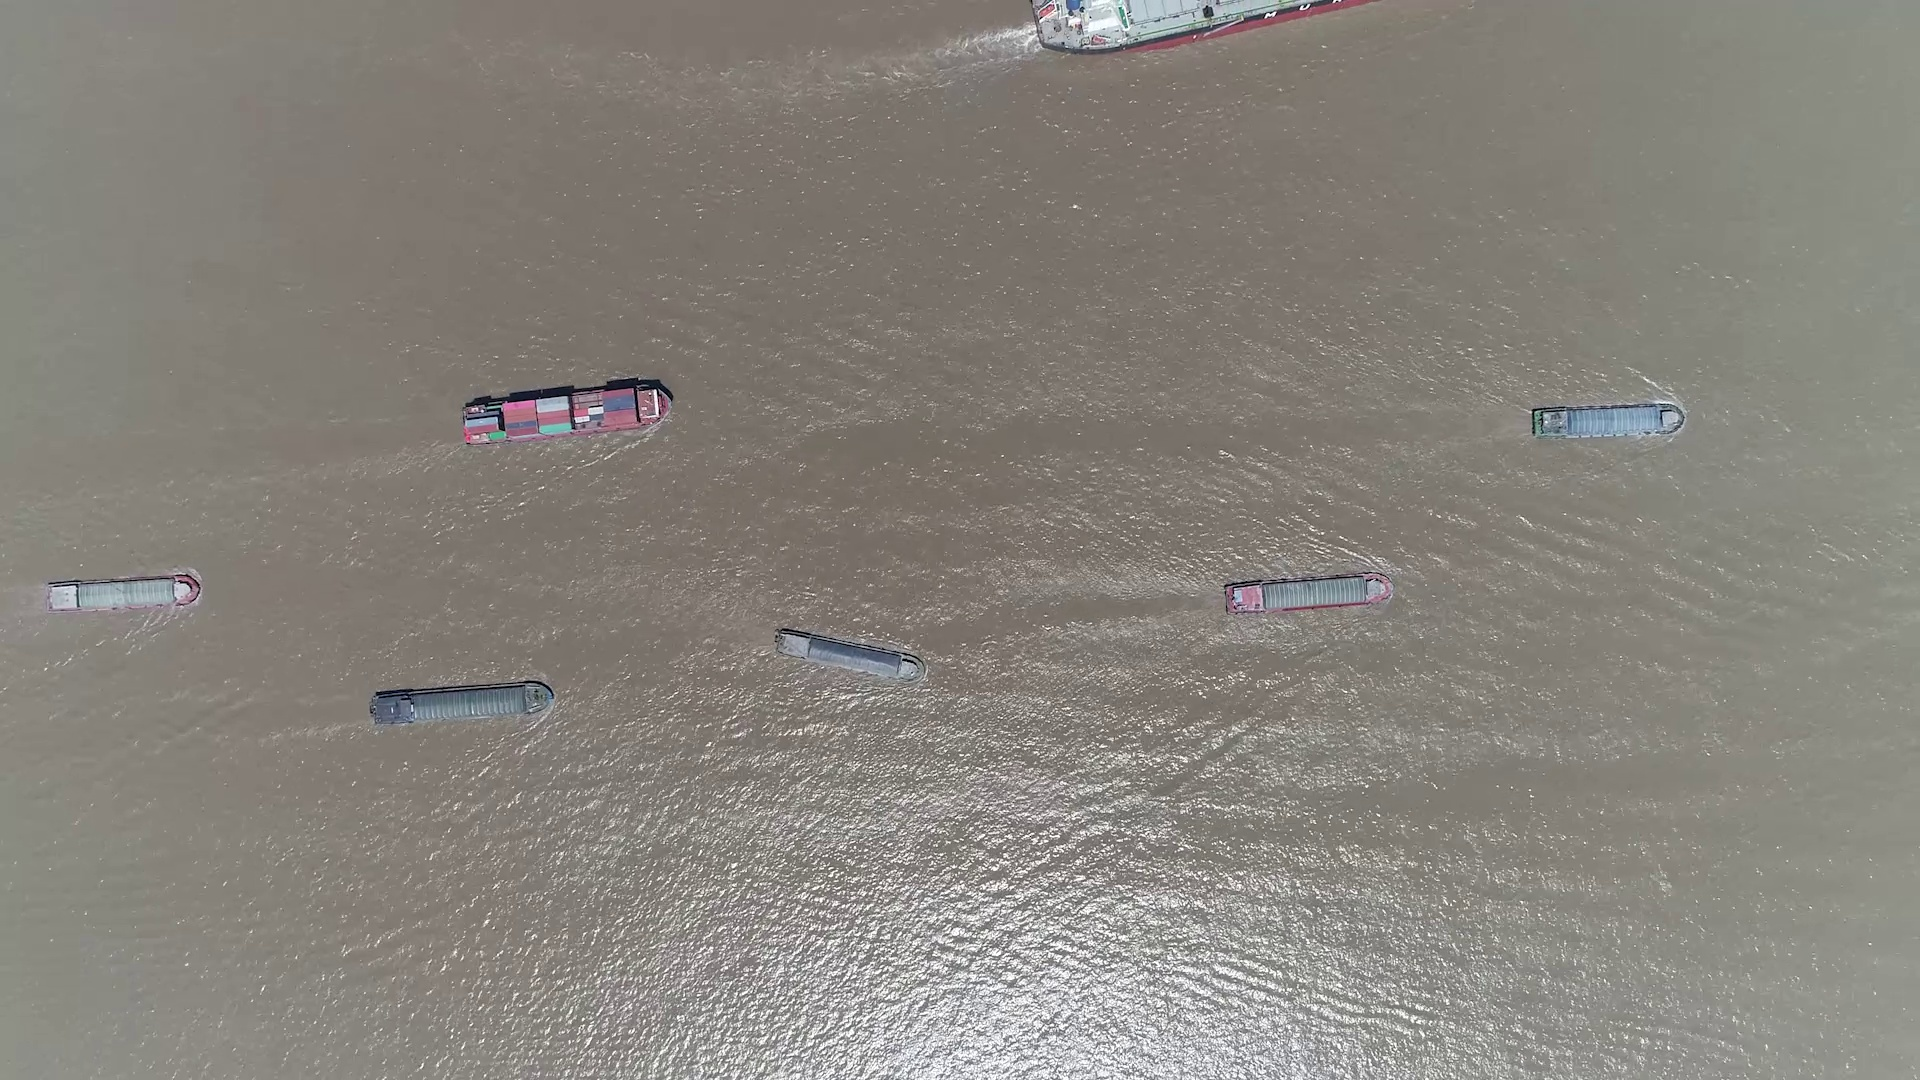ship: (1031, 3, 1375, 55), (462, 378, 673, 444), (371, 680, 555, 727), (774, 628, 924, 682), (1225, 572, 1393, 615), (44, 575, 200, 612), (1530, 404, 1683, 439)
